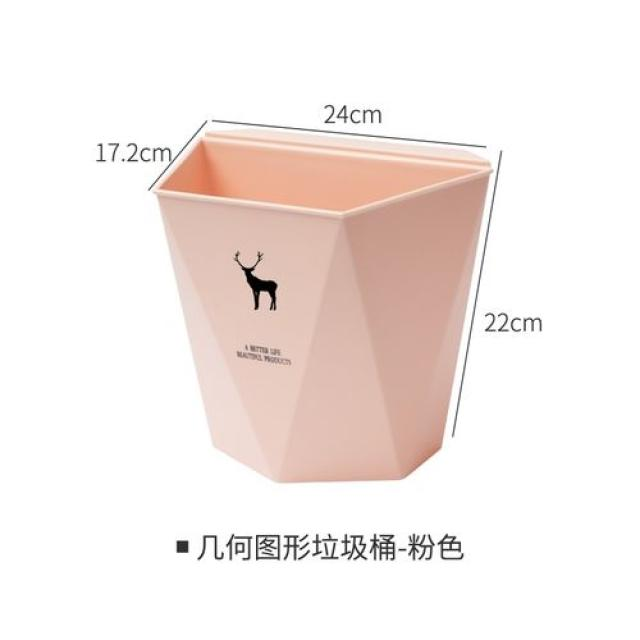dustbin: (157, 118, 491, 490)
